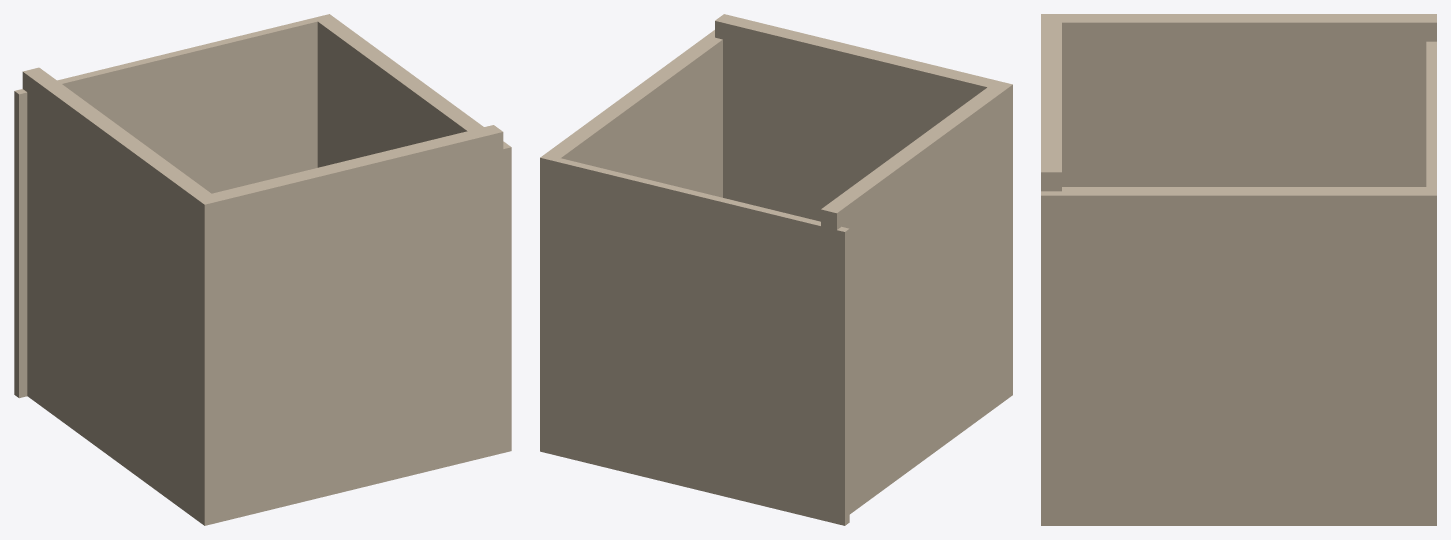
Rendered from Exquisite Jaagub-Lahdi.glb.
3 renders of one model, left to right at view 1: azimuth 30°, elevation 25°; view 2: azimuth 150°, elevation 25°; view 3: azimuth 270°, elevation 25°, orthographic. The views are drawn at different scales.
Parts seen in each view (by area): view 1: Mesh_Mesh_head_geo.001_lambert2SG.001; view 2: Mesh_Mesh_head_geo.001_lambert2SG.001; view 3: Mesh_Mesh_head_geo.001_lambert2SG.001.
Boxes of the visible parts, bbox=[...] form: Mesh_Mesh_head_geo.001_lambert2SG.001: bbox=[14, 14, 511, 525]; Mesh_Mesh_head_geo.001_lambert2SG.001: bbox=[540, 14, 1012, 525]; Mesh_Mesh_head_geo.001_lambert2SG.001: bbox=[1041, 14, 1436, 525].
Bounding box in the file's own units: 38 × 37 × 38.
